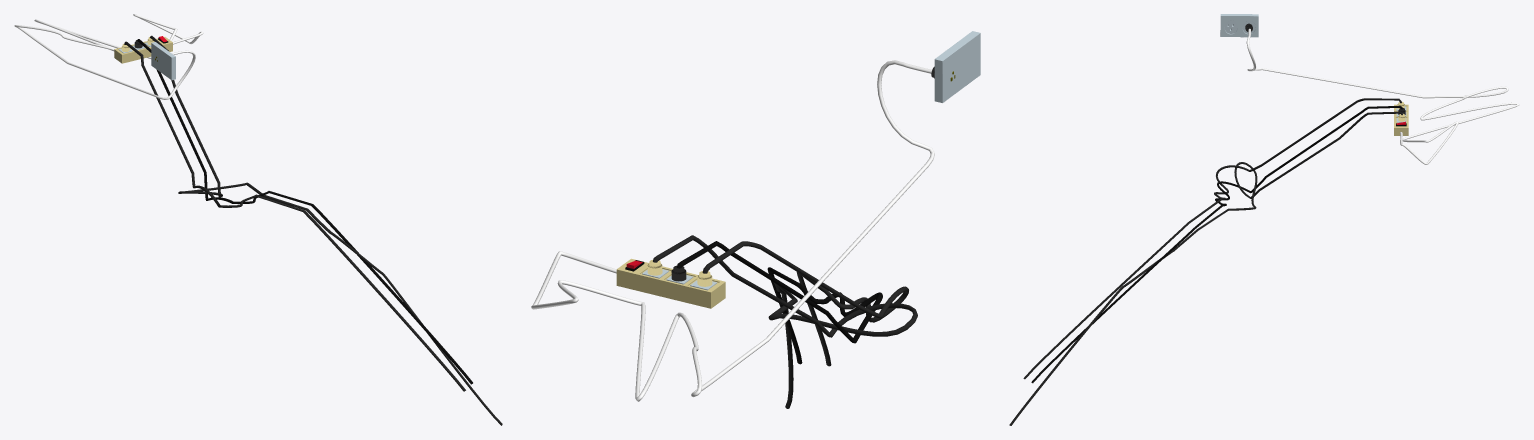
The model's file is Extension4FireOps (1).fbx.
3 views of the same model, side by side, from view 1: azimuth 30°, elevation 25°; view 2: azimuth 150°, elevation 25°; view 3: azimuth 270°, elevation 25° (orthographic). The views are drawn at different scales.
Visible parts, largest first — view 1: ExtensionWire, Plug1, Plug2, Plug3, Outlet; view 2: ExtensionWire, Plug2, Plug3, Plug1, Outlet; view 3: ExtensionWire, Plug2, Plug1, Plug3, Outlet.
Part boxes in pixels (x1,y1,x2,y2): ExtensionWire: (14, 14, 203, 99); Plug1: (121, 41, 465, 391); Plug2: (147, 35, 502, 425); Plug3: (134, 39, 472, 384); Outlet: (151, 42, 175, 80); ExtensionWire: (531, 60, 955, 401); Plug2: (647, 235, 917, 408); Plug3: (671, 241, 882, 364); Plug1: (697, 241, 908, 366); Outlet: (934, 31, 980, 102); ExtensionWire: (1245, 23, 1519, 164); Plug2: (1009, 111, 1405, 425); Plug1: (1023, 98, 1404, 379); Plug3: (1031, 106, 1405, 383); Outlet: (1220, 14, 1258, 37).
Bounding box in the file's own units: 1.26 × 1.85 × 2.72.
